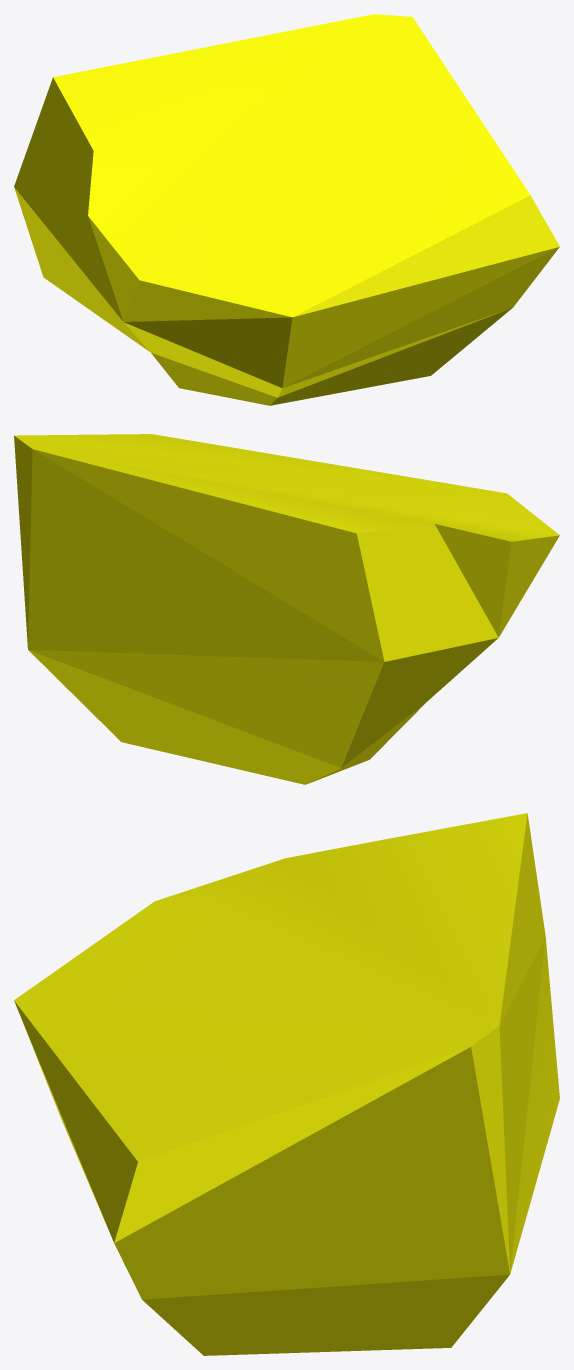
3 views of the same model, one above another, from view 1: azimuth 30°, elevation 25°; view 2: azimuth 150°, elevation 25°; view 3: azimuth 270°, elevation 25° (orthographic). The views are drawn at different scales.
Parts seen in each view (by area): view 1: CJ_PoLinKuang_01; view 2: CJ_PoLinKuang_01; view 3: CJ_PoLinKuang_01.
Part boxes in pixels (x1,y1,x2,y2): CJ_PoLinKuang_01: (14, 14, 559, 405); CJ_PoLinKuang_01: (14, 434, 559, 784); CJ_PoLinKuang_01: (14, 813, 559, 1355).
Size of the model in its own units: 0.1276 by 0.0818 by 0.1089.
1 material, 1 textured.
